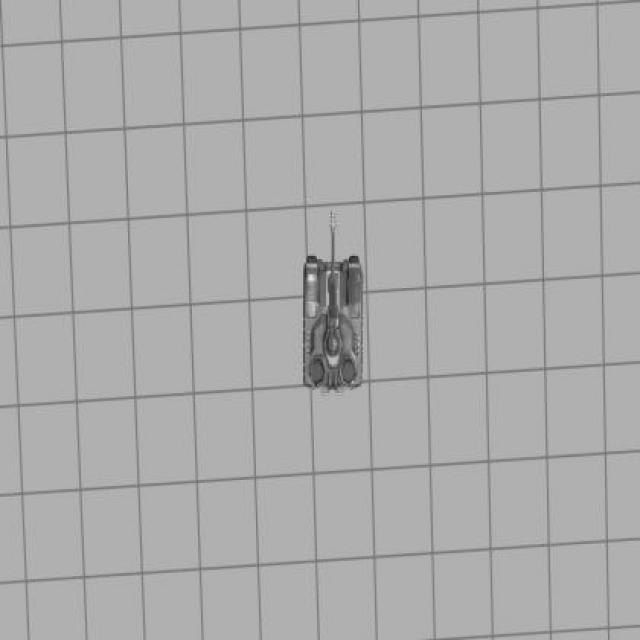tank: (301, 213, 363, 398)
